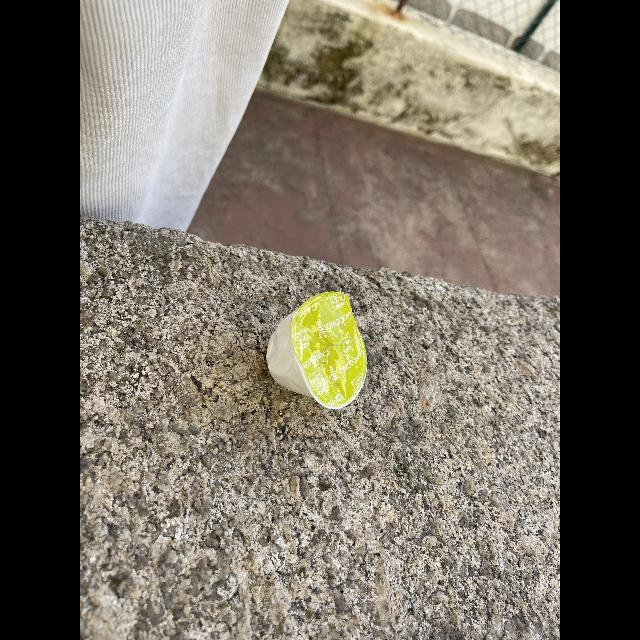damaged_capsule: (260, 286, 398, 412)
